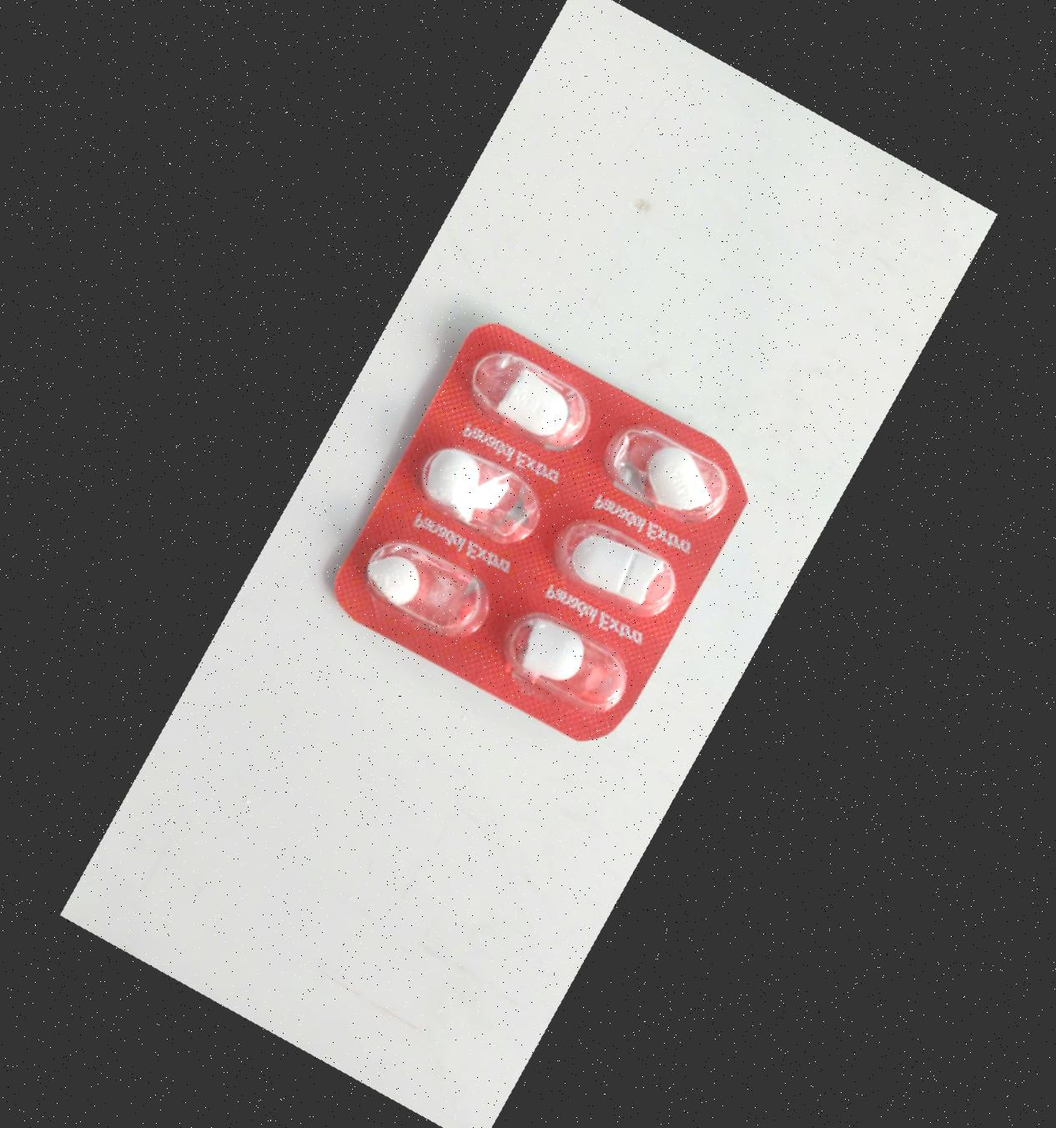Partial: (532, 509, 711, 668), (588, 393, 767, 552), (480, 588, 659, 746), (397, 413, 576, 571), (452, 324, 630, 482), (334, 511, 512, 669)
